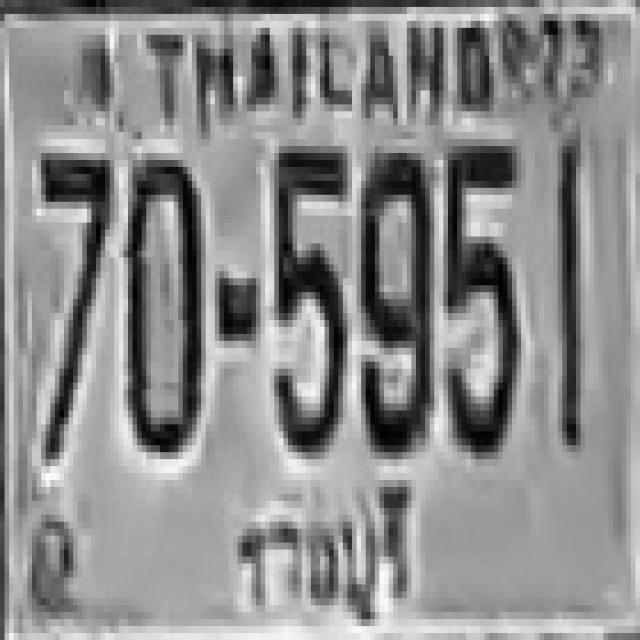0: (124, 153, 201, 445)
5: (439, 139, 516, 452), (270, 139, 343, 445)
7: (36, 146, 110, 452)
9: (356, 146, 429, 445)
Ratchaburi: (225, 468, 427, 632)
